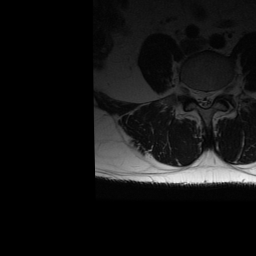CCS_normal: (201, 84, 208, 113)
LFS_normal: (216, 81, 222, 101)
LLS_normal: (208, 85, 215, 108)
RFS_normal: (187, 79, 195, 102)
RLS_normal: (195, 82, 201, 109)
